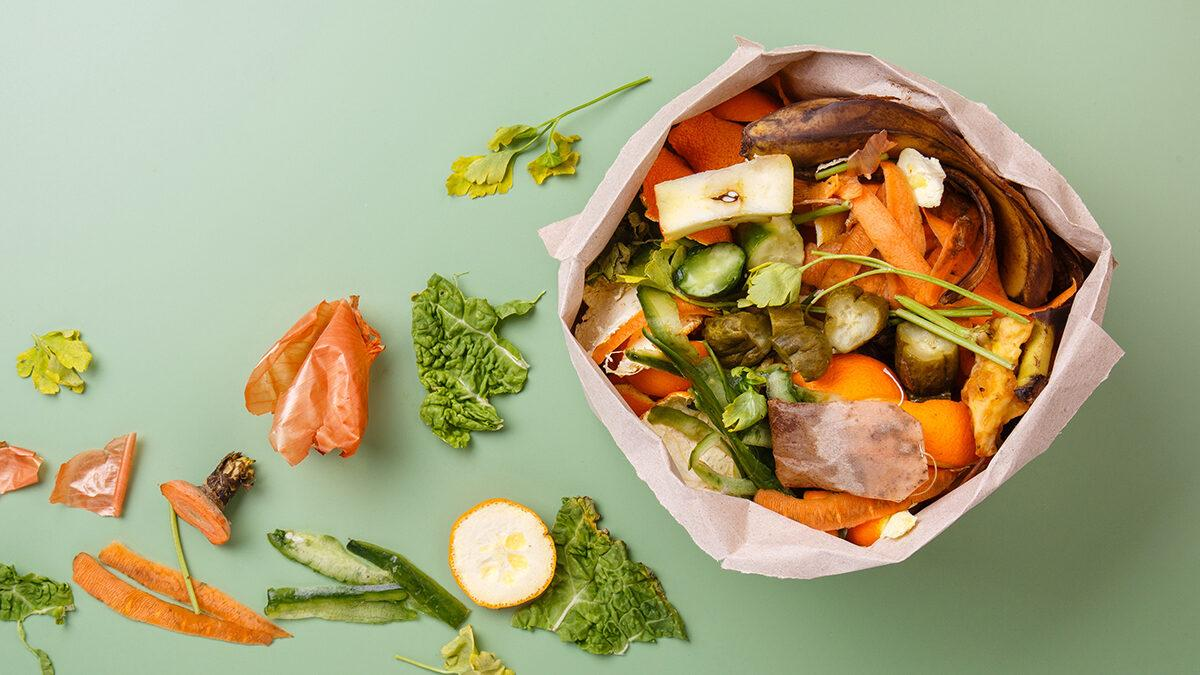organic: (540, 40, 803, 317), (244, 296, 382, 465), (768, 362, 928, 503), (411, 274, 541, 447), (544, 496, 686, 654), (73, 542, 289, 644), (812, 253, 1029, 317), (654, 154, 793, 239), (449, 499, 555, 608), (974, 177, 1052, 306), (851, 166, 935, 280), (161, 451, 254, 543), (50, 434, 136, 517), (962, 357, 1021, 455), (901, 399, 975, 466), (805, 354, 902, 403), (823, 284, 888, 352), (674, 243, 745, 297), (896, 148, 944, 207)
